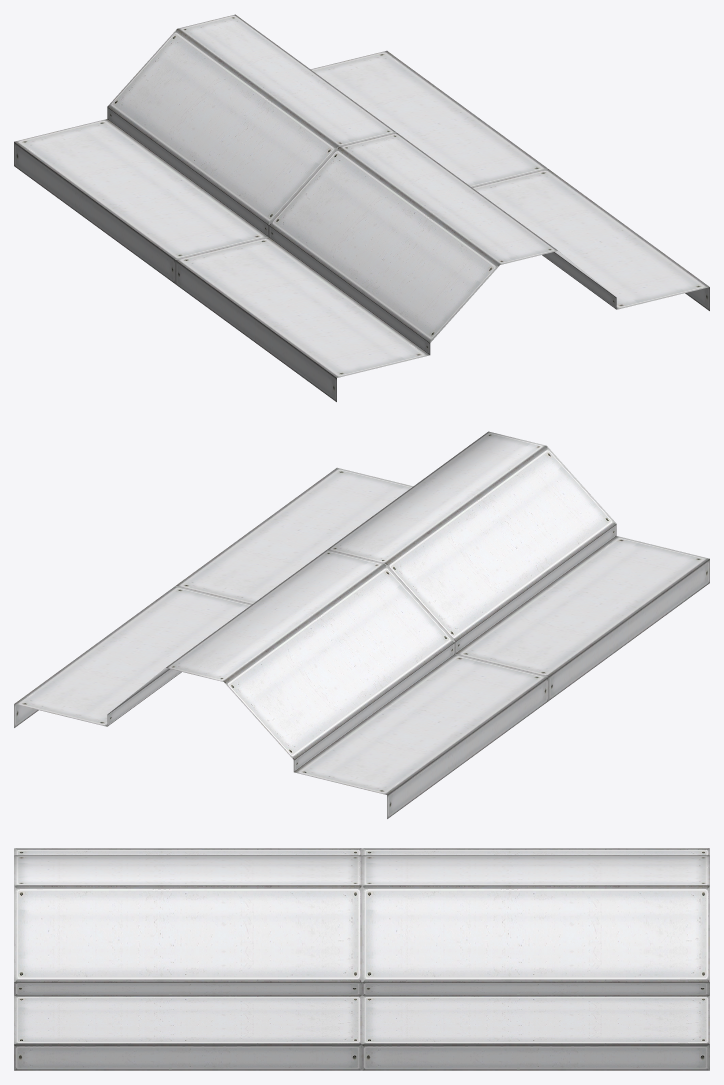
File: DK_Edge.FBX
3 views of the same model, one above another, from view 1: azimuth 30°, elevation 25°; view 2: azimuth 150°, elevation 25°; view 3: azimuth 270°, elevation 25° (orthographic). The views are drawn at different scales.
Visible parts, largest first — view 1: DK_Edge; view 2: DK_Edge; view 3: DK_Edge.
Part boxes in pixels (bbox=[...]): DK_Edge: bbox=[14, 14, 709, 401]; DK_Edge: bbox=[14, 431, 709, 818]; DK_Edge: bbox=[14, 848, 709, 1070].
Size of the model in its own units: 4 by 1 by 6.
